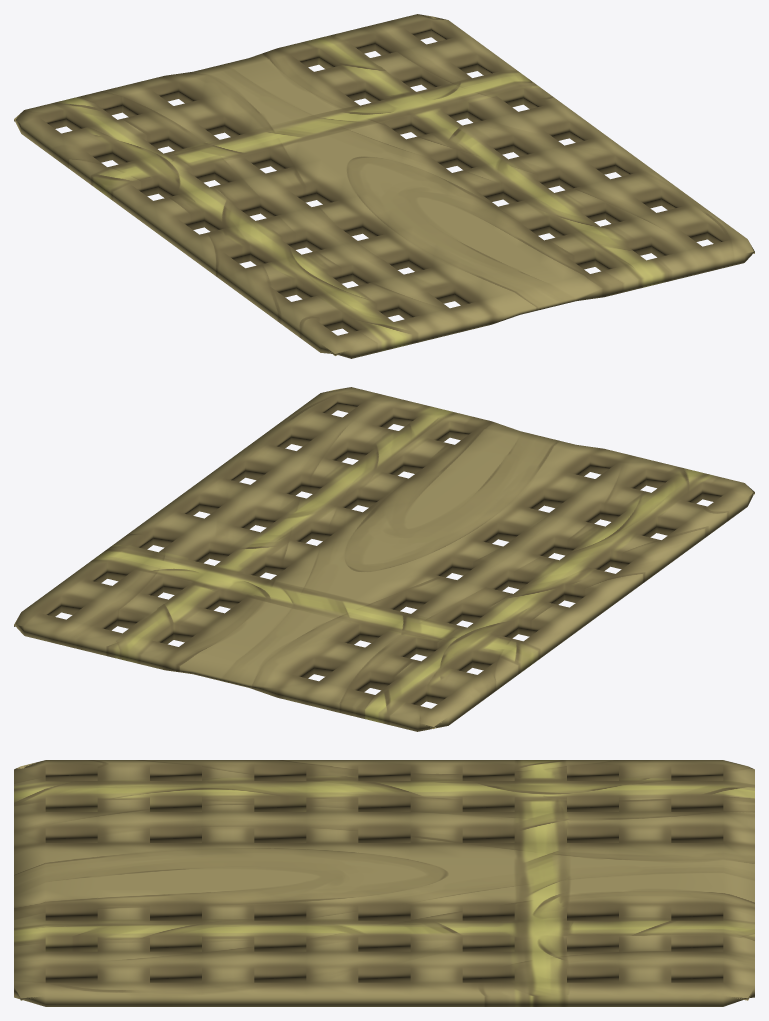
File: catwalk2.fbx
The picture shows the model from 3 angles, top to bottom: view 1: azimuth 30°, elevation 25°; view 2: azimuth 150°, elevation 25°; view 3: azimuth 270°, elevation 25°; orthographic projection. The views are drawn at different scales.
Parts seen in each view (by area): view 1: Catwalk2; view 2: Catwalk2; view 3: Catwalk2.
Boxes of the visible parts, x1,y1,x2,y2 form: Catwalk2: (14, 14, 754, 358); Catwalk2: (14, 387, 754, 731); Catwalk2: (14, 760, 754, 1006).
Size of the model in its own units: 233 by 176 by 6.74.
